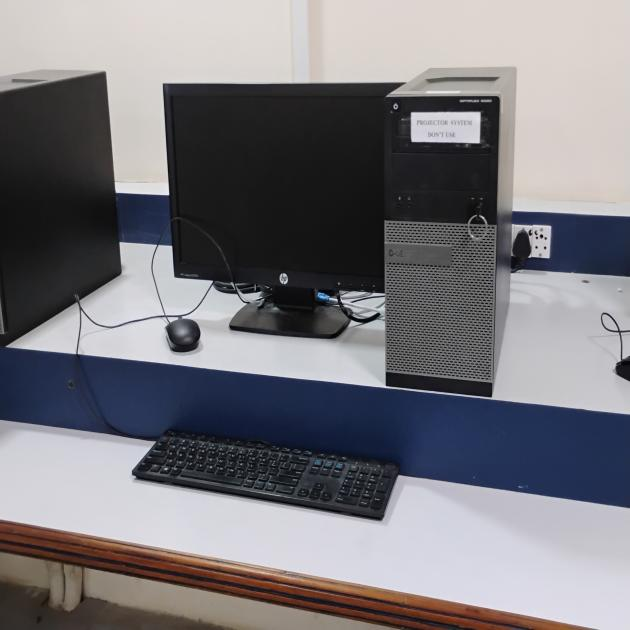computer: (151, 68, 420, 339)
cpu: (423, 70, 523, 400)
desk: (9, 336, 628, 623)
keyboard: (132, 419, 413, 524)
